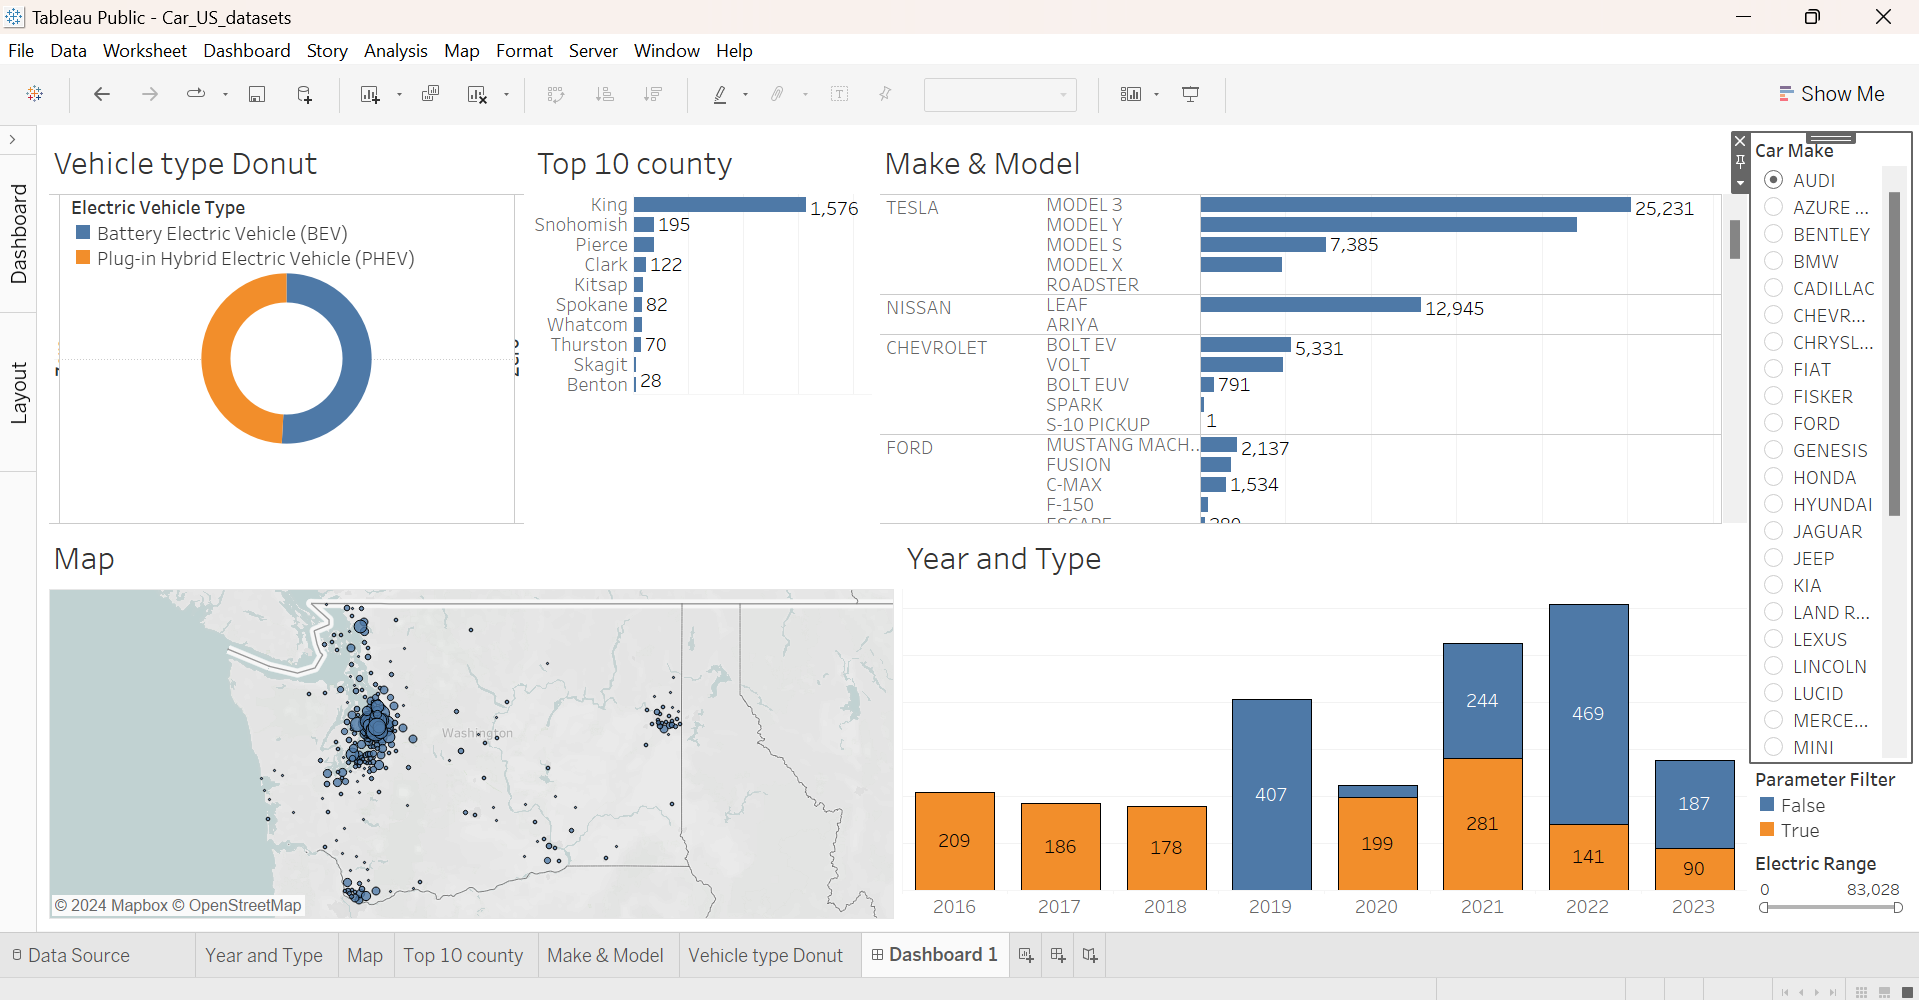

Layout of this report page (visuals, bound fields, positions):
{"tool":"tableau","page":{"name":"Dashboard 1","canvas":[1000,1000],"units":"permille","ordinal":0},"visuals":[{"type":"worksheet","title":"Vehicle type Donut","mark":"Pie","rows":["Calculation_333829323499257858","Calculation_333829323499257858"],"box":[5.4,9.9,327.9,490.1]},{"type":"worksheet","title":"Top 10 county","mark":"Automatic","rows":["County"],"cols":["DOL Vehicle ID"],"box":[333.3,9.9,235.1,490.1]},{"type":"worksheet","title":"Make & Model","mark":"Automatic","rows":["Make","Model"],"cols":["DOL Vehicle ID"],"box":[568.4,9.9,317.8,490.1]},{"type":"parameter","param":"[Parameters].[Parameter 1]","box":[886.2,9.9,108.4,780.4]},{"type":"legend","title":"Vehicle type Donut","param":"[federated.0g5txko0ypvzda19m1fpx15bvxfb].[none:Electric Vehicle Type:nk]","box":[18.3,85.6,236.5,94.3]},{"type":"worksheet","title":"Map","mark":"Automatic","box":[5.4,500,440.4,490.1]},{"type":"worksheet","title":"Year and Type","mark":"Bar","rows":["DOL Vehicle ID"],"cols":["Model Year"],"box":[445.8,500,440.4,490.1]},{"type":"legend","title":"Make & Model","param":"[federated.0g5txko0ypvzda19m1fpx15bvxfb].[none:Calculation_333829323488485377:nk","box":[886.2,790.3,108.4,104.2]},{"type":"filter","title":"Year and Type","param":"[federated.0g5txko0ypvzda19m1fpx15bvxfb].[sum:Electric Range:qk]","box":[886.2,894.5,108.4,95.5]}]}

Visuals, with their boxes on the dashboard's canvas, which has no fixed pixel size, in thousandths of its width and height (x1, y1, x2, y2). These are canvas units, not pixel positions in the 1919x1000 screenshot, which may show the page scaled, cropped or inside an application window:
"Vehicle type Donut" worksheet (Pie marks): [x1=5, y1=10, x2=333, y2=500]
"Top 10 county" worksheet: [x1=333, y1=10, x2=568, y2=500]
"Make & Model" worksheet: [x1=568, y1=10, x2=886, y2=500]
parameter: [x1=886, y1=10, x2=995, y2=790]
"Vehicle type Donut" legend: [x1=18, y1=86, x2=255, y2=180]
"Map" worksheet: [x1=5, y1=500, x2=446, y2=990]
"Year and Type" worksheet (Bar marks): [x1=446, y1=500, x2=886, y2=990]
"Make & Model" legend: [x1=886, y1=790, x2=995, y2=894]
"Year and Type" filter: [x1=886, y1=894, x2=995, y2=990]
